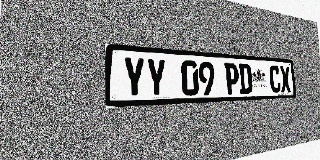0: (181, 60, 199, 96)
9: (198, 61, 215, 95)
C: (269, 65, 281, 93)
D: (238, 63, 252, 94)
P: (224, 63, 239, 94)
X: (280, 66, 291, 93)
Y: (122, 57, 146, 98), (146, 58, 167, 97)
